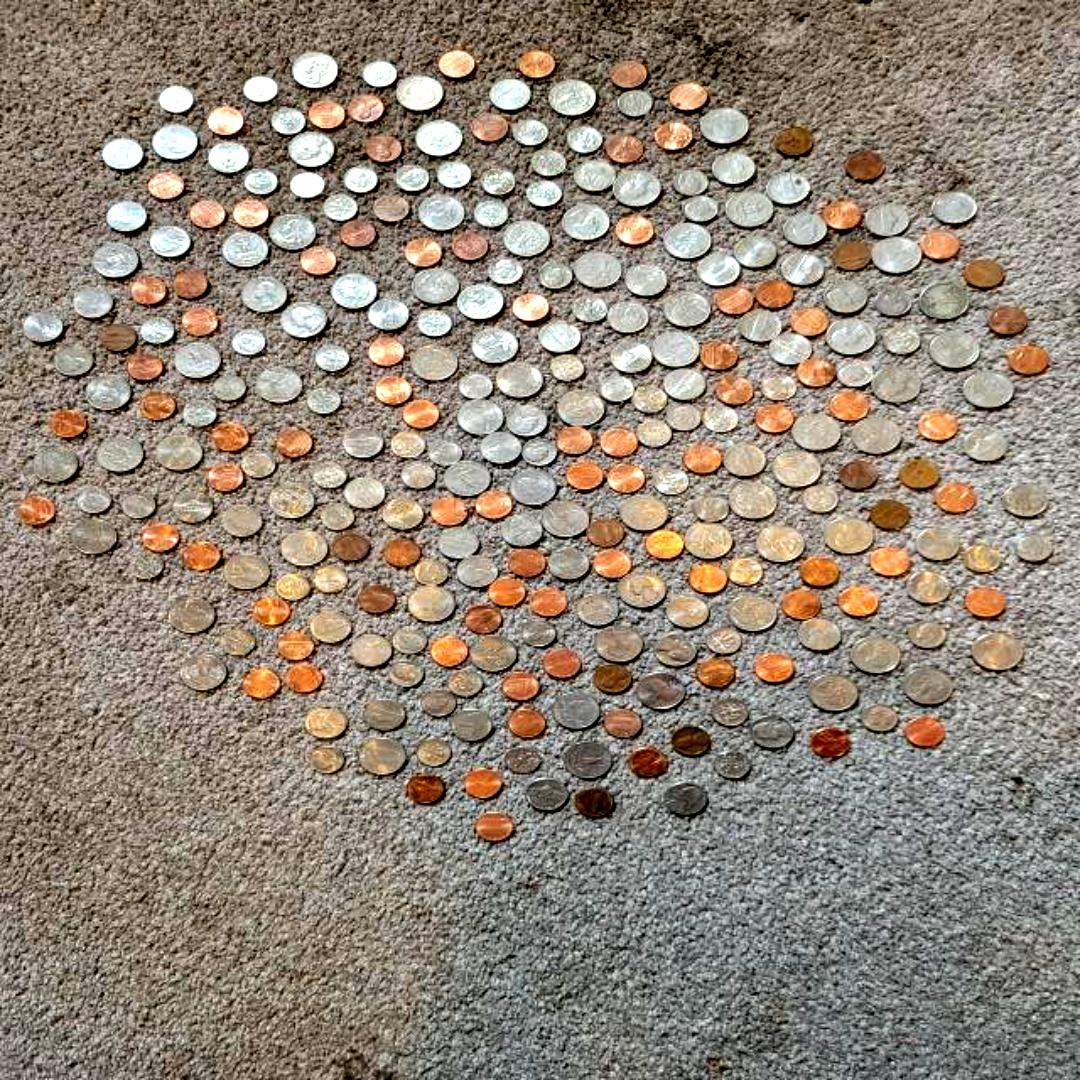Dime: (712, 698, 748, 728), (908, 620, 946, 648), (883, 327, 921, 355), (800, 486, 837, 514), (672, 170, 710, 197), (862, 703, 896, 733), (714, 751, 750, 779), (1016, 534, 1052, 562), (692, 494, 728, 522), (76, 486, 112, 514), (428, 438, 464, 466), (522, 438, 558, 466), (654, 468, 690, 496), (666, 404, 702, 432), (598, 374, 634, 402), (760, 372, 796, 400), (838, 360, 874, 388), (480, 167, 516, 195), (568, 126, 604, 154), (512, 118, 548, 146), (962, 545, 998, 573), (682, 194, 718, 222), (505, 747, 542, 774), (221, 629, 256, 657), (418, 738, 453, 766), (448, 669, 483, 697), (473, 200, 508, 228), (312, 567, 348, 594), (520, 620, 556, 647), (726, 559, 762, 586), (572, 295, 608, 322), (536, 262, 572, 289), (526, 179, 562, 206), (324, 194, 358, 222), (290, 172, 324, 200), (272, 108, 306, 136), (418, 309, 453, 336), (632, 386, 667, 413), (128, 552, 164, 578), (702, 406, 738, 432), (390, 432, 426, 458), (532, 150, 566, 177), (244, 168, 278, 195), (617, 90, 652, 116), (394, 627, 426, 655), (424, 690, 456, 718), (344, 166, 376, 194), (396, 164, 428, 192), (160, 86, 193, 113), (704, 628, 741, 652), (276, 574, 310, 600), (310, 746, 344, 772), (876, 290, 910, 316), (488, 258, 522, 284), (412, 560, 448, 584), (388, 662, 424, 686), (322, 503, 354, 530), (550, 353, 582, 380), (364, 61, 396, 88), (639, 422, 672, 448), (244, 76, 278, 101), (459, 374, 494, 398), (402, 462, 434, 488), (314, 462, 346, 488), (184, 400, 216, 426), (142, 318, 174, 344), (308, 388, 340, 414), (232, 330, 264, 356), (438, 162, 470, 188), (121, 493, 154, 518), (242, 452, 274, 476), (214, 376, 246, 400), (316, 346, 348, 370)
Nickel: (664, 782, 708, 816), (768, 333, 814, 365), (824, 280, 866, 314), (964, 430, 1008, 462), (738, 311, 782, 343), (506, 404, 550, 436), (576, 592, 618, 625), (527, 779, 569, 812), (363, 699, 405, 732), (908, 570, 950, 603), (101, 138, 144, 170), (697, 254, 740, 286), (712, 154, 755, 186), (609, 341, 652, 373), (653, 634, 696, 666), (1003, 484, 1046, 516), (783, 213, 826, 245), (149, 226, 191, 258), (105, 201, 147, 233), (624, 264, 666, 296), (766, 172, 808, 204), (866, 204, 908, 236), (932, 192, 974, 224), (723, 445, 765, 477), (735, 235, 777, 267), (663, 369, 705, 401), (538, 321, 580, 353), (479, 432, 521, 464), (342, 426, 384, 458), (311, 611, 353, 643), (381, 498, 423, 530), (344, 477, 386, 509), (666, 596, 708, 628), (799, 618, 841, 650), (305, 706, 347, 738), (750, 716, 792, 748), (574, 161, 616, 193), (916, 528, 958, 560), (607, 301, 649, 333), (349, 636, 392, 666), (209, 142, 249, 174), (368, 299, 408, 331), (72, 287, 112, 319), (172, 491, 212, 523), (223, 505, 263, 537), (502, 515, 542, 547), (457, 555, 497, 587), (489, 80, 531, 110), (781, 254, 823, 284), (437, 528, 479, 558), (548, 549, 590, 579), (23, 312, 63, 342), (452, 710, 492, 740), (53, 346, 93, 376)
Penny: (905, 717, 947, 749), (869, 499, 909, 531), (916, 411, 958, 441), (810, 727, 852, 757), (755, 652, 793, 684), (921, 231, 961, 261), (1009, 344, 1049, 374), (798, 558, 838, 588), (542, 649, 582, 679), (506, 708, 546, 738), (474, 812, 514, 842), (407, 774, 447, 804), (868, 548, 910, 576), (715, 286, 753, 316), (755, 279, 793, 309), (846, 150, 884, 180), (831, 241, 869, 271), (988, 306, 1026, 336), (830, 393, 868, 423), (900, 459, 938, 489), (839, 459, 877, 489), (630, 747, 668, 777), (464, 769, 502, 799), (430, 637, 468, 667), (286, 663, 324, 693), (243, 669, 281, 699), (16, 495, 54, 525), (964, 260, 1004, 288), (936, 485, 976, 513), (964, 588, 1004, 616), (780, 592, 820, 620), (689, 565, 729, 593), (592, 664, 632, 692), (356, 585, 396, 613), (382, 538, 419, 568), (608, 463, 644, 493), (646, 528, 682, 558), (488, 577, 524, 607), (476, 490, 512, 520), (368, 337, 404, 367), (470, 113, 508, 141), (206, 107, 244, 135), (615, 217, 653, 245), (512, 293, 550, 321), (823, 201, 861, 229), (791, 308, 829, 336), (797, 359, 835, 387), (755, 404, 793, 432), (685, 445, 723, 473), (600, 429, 638, 457), (566, 461, 604, 489), (556, 426, 594, 454), (839, 588, 877, 616), (586, 518, 624, 546), (696, 658, 734, 686), (671, 727, 709, 755), (603, 709, 641, 737), (502, 673, 540, 701), (576, 788, 614, 816), (529, 588, 567, 616), (507, 549, 545, 577), (430, 498, 468, 526), (330, 534, 368, 562), (141, 523, 179, 551), (211, 424, 249, 452), (49, 410, 87, 438), (401, 400, 439, 428), (97, 324, 135, 352), (610, 60, 647, 88), (777, 128, 814, 156), (341, 220, 378, 248), (181, 543, 218, 571), (181, 308, 218, 336), (518, 51, 556, 78), (605, 135, 643, 162), (365, 135, 403, 162), (139, 393, 177, 420), (670, 83, 706, 111), (348, 94, 384, 122), (190, 200, 226, 228), (232, 200, 268, 228), (374, 194, 410, 222), (406, 238, 442, 266), (452, 232, 488, 260), (172, 271, 208, 299), (130, 277, 166, 305), (128, 353, 164, 381), (276, 632, 313, 659), (700, 344, 738, 370), (716, 378, 754, 404), (309, 101, 344, 129), (302, 247, 337, 275), (595, 550, 630, 578), (466, 605, 501, 633), (254, 597, 289, 625), (206, 464, 241, 492), (438, 51, 474, 78), (656, 124, 692, 151), (276, 430, 312, 457), (376, 377, 410, 405), (148, 174, 182, 198)
Quarter: (872, 237, 924, 275), (851, 416, 901, 454), (850, 637, 900, 675), (902, 668, 952, 706), (971, 632, 1021, 670), (771, 450, 821, 487), (614, 170, 662, 208), (562, 204, 610, 242), (502, 220, 550, 258), (621, 494, 669, 532), (595, 626, 643, 664), (637, 672, 685, 710), (809, 673, 857, 711), (564, 741, 612, 779), (92, 242, 140, 280), (825, 320, 875, 356), (963, 372, 1013, 408), (871, 368, 921, 404), (824, 518, 874, 554), (663, 221, 711, 258), (792, 414, 840, 451), (729, 594, 777, 631), (652, 330, 700, 367), (224, 552, 270, 590), (153, 123, 200, 160), (255, 366, 302, 403), (270, 214, 318, 250), (701, 108, 749, 144), (575, 252, 623, 288), (930, 332, 978, 368), (496, 362, 544, 398), (470, 328, 518, 364), (268, 482, 316, 518), (444, 460, 492, 496), (280, 530, 328, 566), (408, 586, 456, 622), (618, 572, 666, 608), (552, 692, 600, 728), (756, 526, 804, 562), (685, 522, 733, 558), (170, 596, 215, 634), (550, 80, 596, 117), (456, 399, 502, 436), (98, 436, 144, 473), (664, 290, 710, 327), (557, 390, 604, 426), (510, 470, 557, 506), (919, 284, 967, 319), (417, 119, 462, 156), (180, 654, 226, 690), (360, 738, 406, 774), (288, 132, 334, 168), (222, 232, 270, 266), (725, 192, 773, 226), (156, 436, 204, 470), (70, 520, 118, 554), (470, 636, 518, 670), (543, 502, 588, 538), (332, 273, 378, 308), (294, 51, 337, 88), (398, 76, 442, 112), (282, 302, 326, 338), (730, 484, 776, 518), (174, 344, 220, 378), (418, 196, 464, 230), (33, 448, 76, 484), (412, 346, 456, 381), (413, 270, 460, 302), (242, 278, 286, 312), (86, 376, 130, 410), (458, 286, 503, 318)
